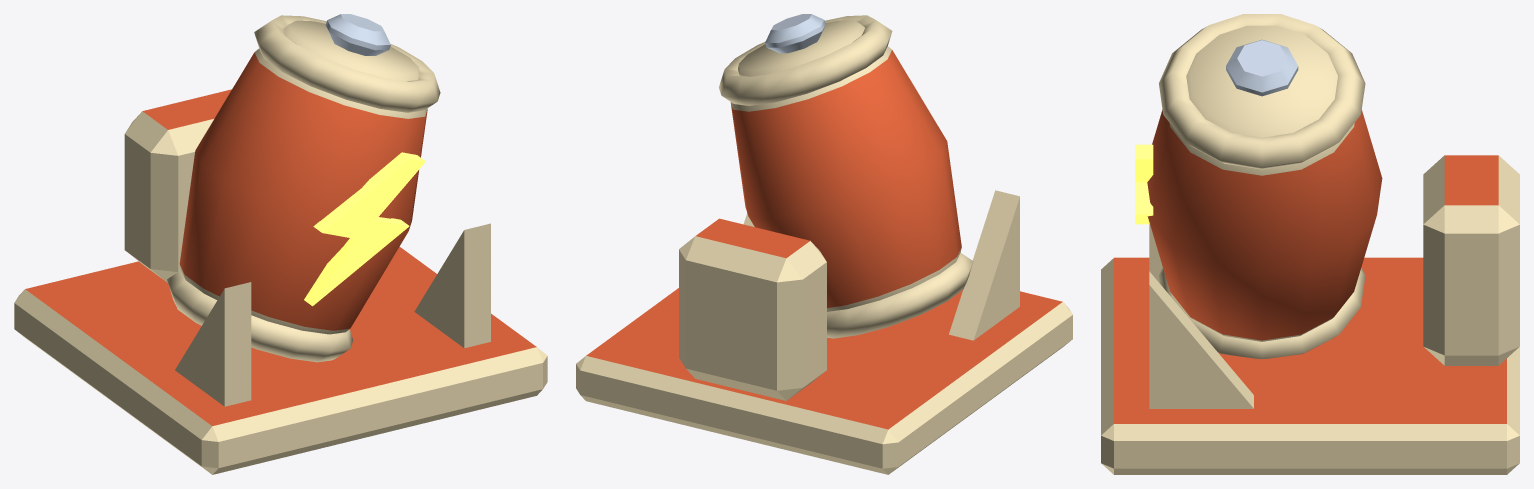
File: R4X_Battery_LOD1.fbx
3 renders of one model, left to right at view 1: azimuth 30°, elevation 25°; view 2: azimuth 150°, elevation 25°; view 3: azimuth 270°, elevation 25°, orthographic. The views are drawn at different scales.
Visible parts, largest first — view 1: R4X_Battery_LOD1; view 2: R4X_Battery_LOD1; view 3: R4X_Battery_LOD1.
Part boxes in pixels (x1,y1,x2,y2): R4X_Battery_LOD1: (14,14,547,474); R4X_Battery_LOD1: (576,14,1072,474); R4X_Battery_LOD1: (1101,14,1519,474).
Bounding box in the file's own units: 0.52 × 0.5095 × 0.52.
